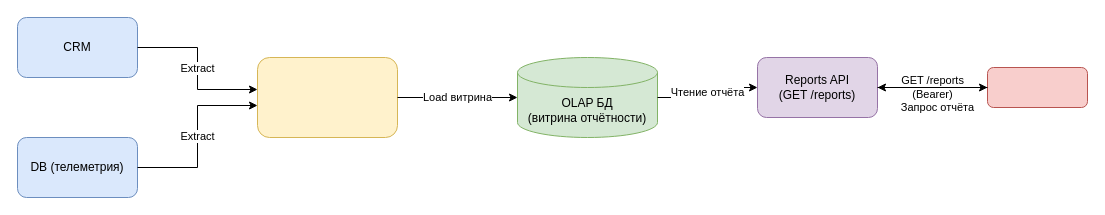
Some shapes in this 1105 by 215 pixel diagram are drawn without their labels. Here are the shapes that lost their labels. From the top down, the box of each, then its label:
(256, 56, 398, 138): Apache Airflow (ETL DAG)
(986, 66, 1088, 108): UI (пользователь)
